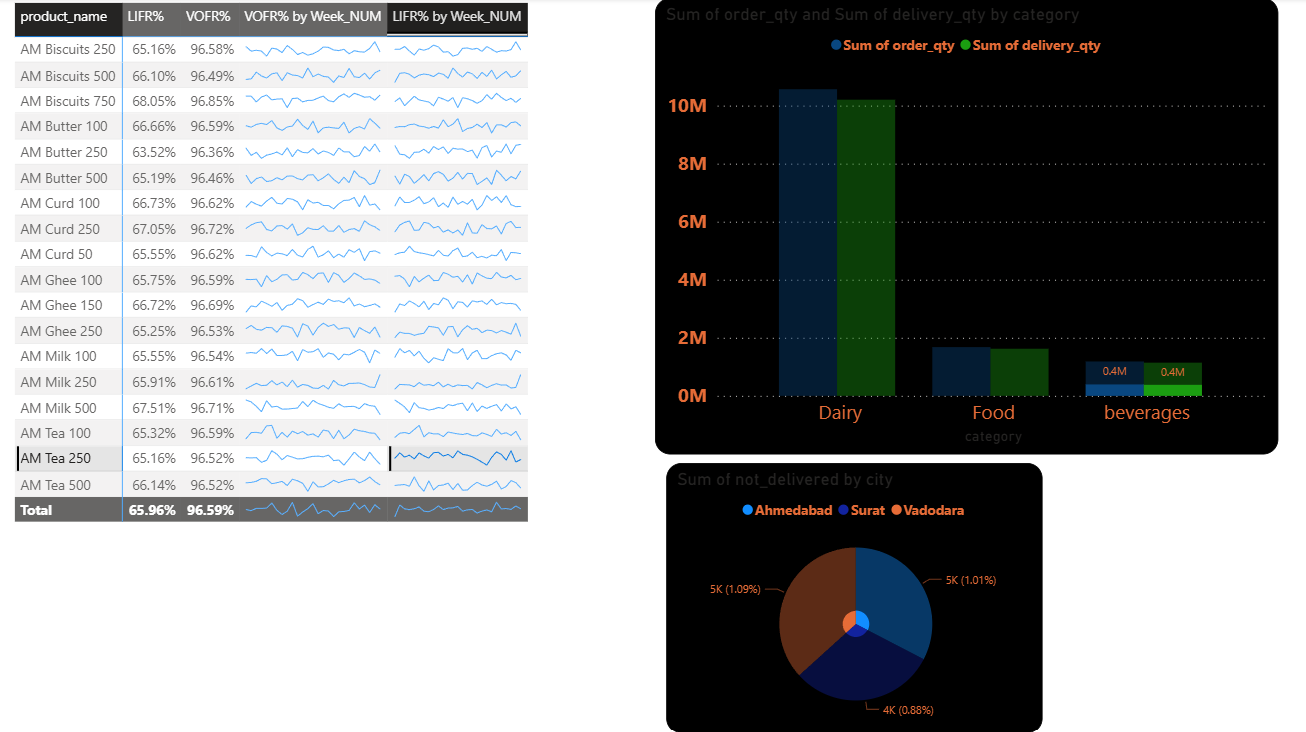

Layout of this report page (visuals, bound fields, positions):
{"tool":"powerbi","page":{"name":"Page 2","canvas":[1280,720],"ordinal":1},"visuals":[{"type":"pivotTable","fields":{"Rows":["dim_products.product_name"],"Values":["fact_order_lines.LIFR%","fact_order_lines.VOFR%","SparklineData(fact_order_lines.VOFR%_[fact_order_lines.Week_NUM])","SparklineData(fact_order_lines.LIFR%_[fact_order_lines.Week_NUM])"]},"box":[10,0,891.7,708.3],"z":0},{"type":"clusteredColumnChart","fields":{"Y":["Sum(fact_order_lines.order_qty)","Sum(fact_order_lines.delivery_qty)"],"Category":["dim_products.category"]},"box":[640,0,390,443.3],"z":1000},{"type":"pieChart","fields":{"Y":["Sum(fact_order_lines.not_delivered)"],"Series":["dim_customers.city"]},"box":[651.7,455,368.3,265],"z":2000}]}

Visuals, with their boxes in screenshot pixels (x1, y1, x2, y2), scaled from the page's 1280x720 canvas onto the 1306x732 screenshot:
pivotTable - dim_products.product_name x fact_order_lines.LIFR%: box(10, 0, 920, 720)
clusteredColumnChart - Sum(fact_order_lines.order_qty) x Sum(fact_order_lines.delivery_qty): box(653, 0, 1051, 451)
pieChart - Sum(fact_order_lines.not_delivered) x dim_customers.city: box(665, 463, 1041, 731)
